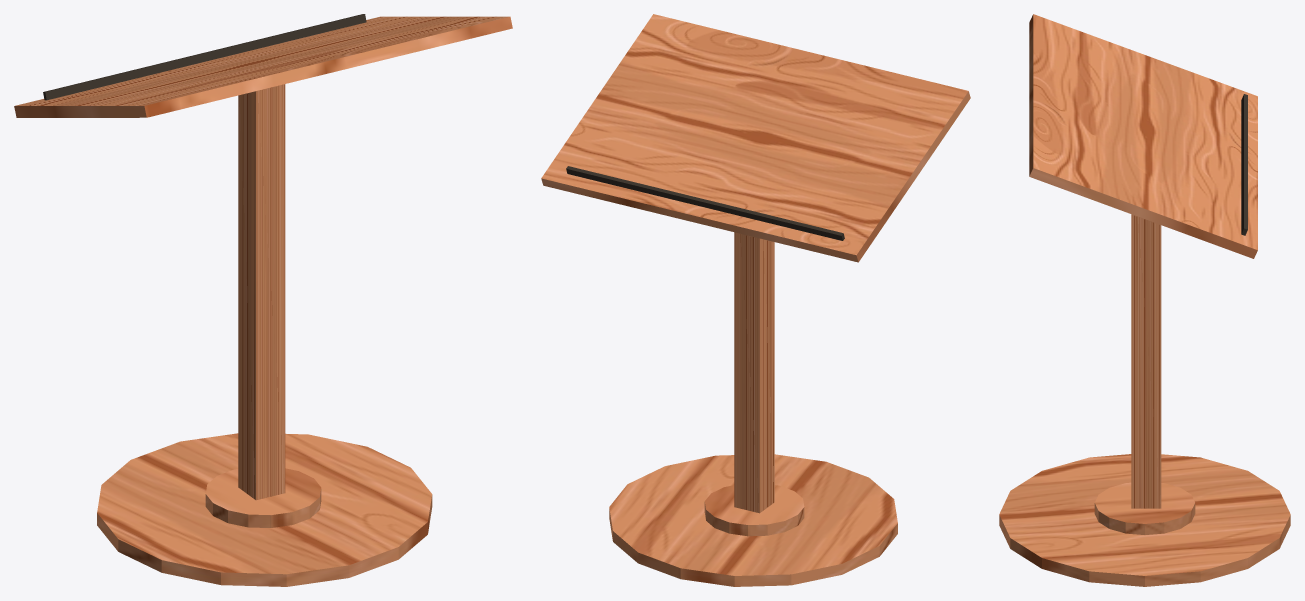
The model's file is Bookstand3.fbx.
The picture shows the model from 3 angles, left to right: view 1: azimuth 30°, elevation 25°; view 2: azimuth 150°, elevation 25°; view 3: azimuth 270°, elevation 25°; orthographic projection. The views are drawn at different scales.
Visible parts, largest first — view 1: Bookstand3; view 2: Bookstand3; view 3: Bookstand3.
Part boxes in pixels (x1,y1,x2,y2): Bookstand3: (14, 14, 512, 586); Bookstand3: (541, 14, 970, 586); Bookstand3: (999, 14, 1290, 586).
Bounding box in the file's own units: 827 × 661 × 1085.
